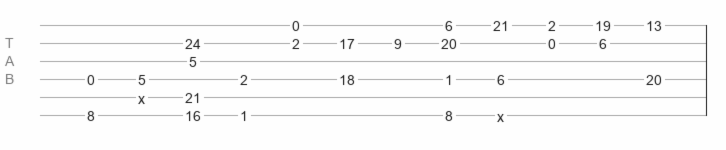0: (87, 72, 95, 82), (292, 18, 300, 28), (548, 36, 556, 46)
1: (240, 108, 248, 118), (445, 72, 453, 82)
13: (646, 18, 662, 28)
16: (185, 108, 201, 118)
17: (339, 36, 355, 46)
18: (339, 72, 355, 82)
19: (595, 18, 611, 28)
2: (240, 72, 248, 82), (292, 36, 300, 46), (548, 18, 556, 28)
20: (441, 36, 457, 46), (646, 72, 662, 82)
21: (185, 90, 201, 100), (493, 18, 509, 28)
24: (185, 36, 201, 46)
5: (138, 72, 146, 82), (189, 54, 197, 64)
6: (445, 18, 453, 28), (497, 72, 505, 82), (599, 36, 607, 46)
8: (87, 108, 95, 118), (445, 108, 453, 118)
9: (394, 36, 402, 46)
x: (138, 91, 145, 99), (497, 109, 504, 117)
